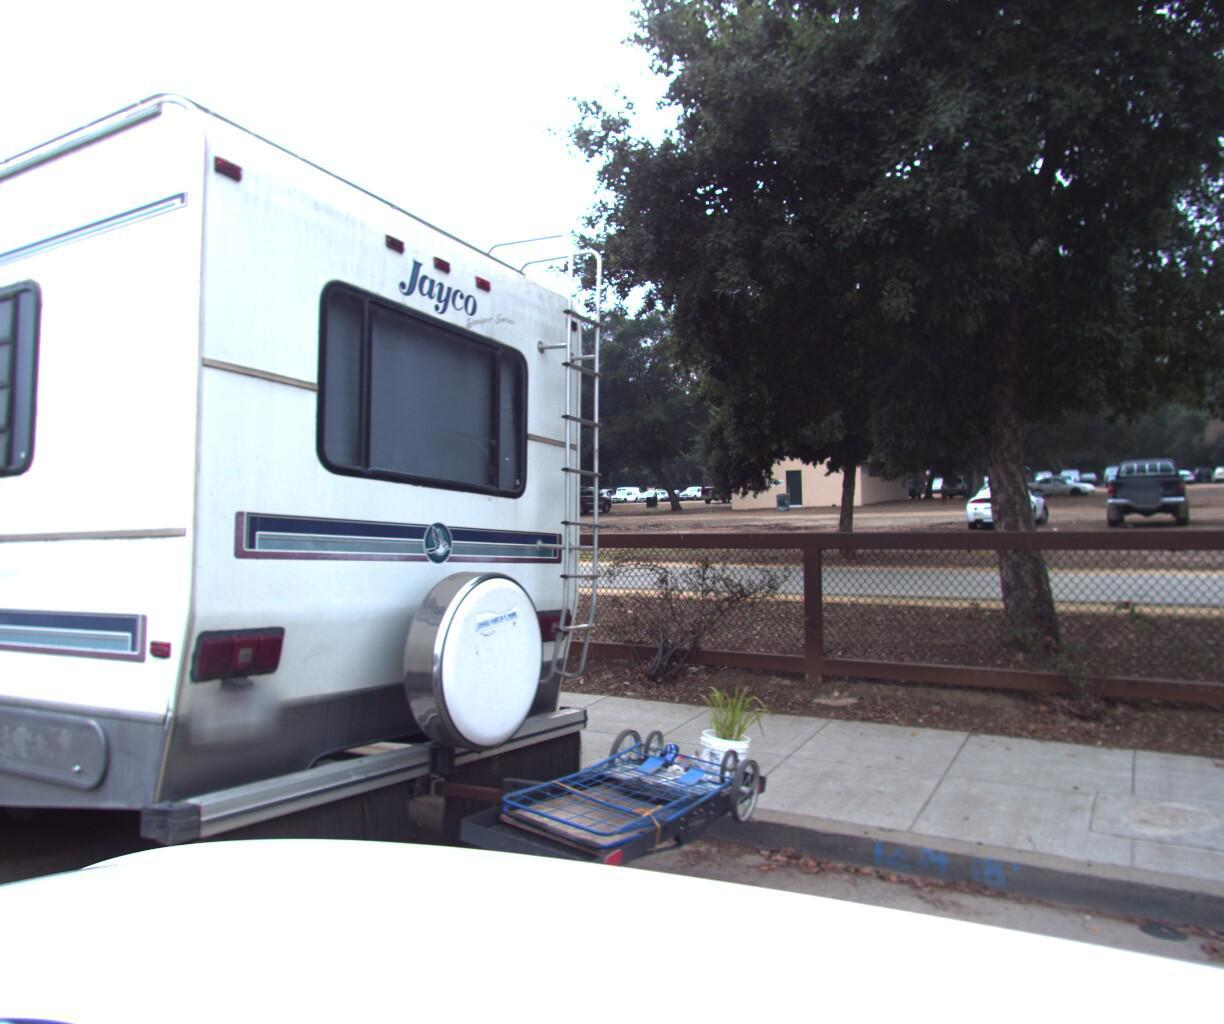other_vehicle: (0, 0, 818, 1024)
